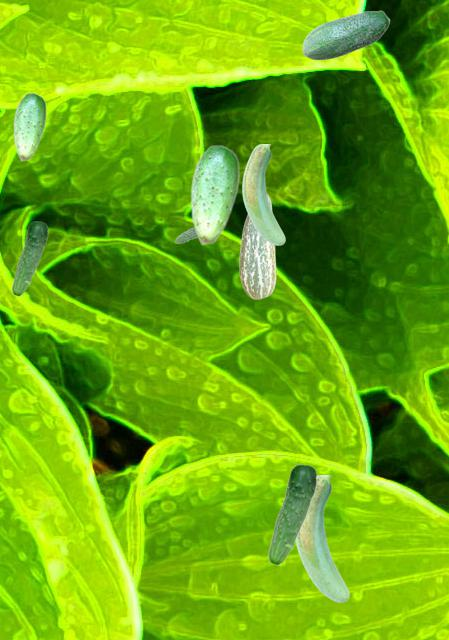cucumber: (296, 475, 348, 601), (267, 464, 316, 564), (190, 144, 238, 244), (302, 10, 389, 59), (242, 144, 284, 244), (239, 194, 275, 298), (11, 221, 47, 295), (13, 92, 45, 160), (174, 227, 196, 242)
